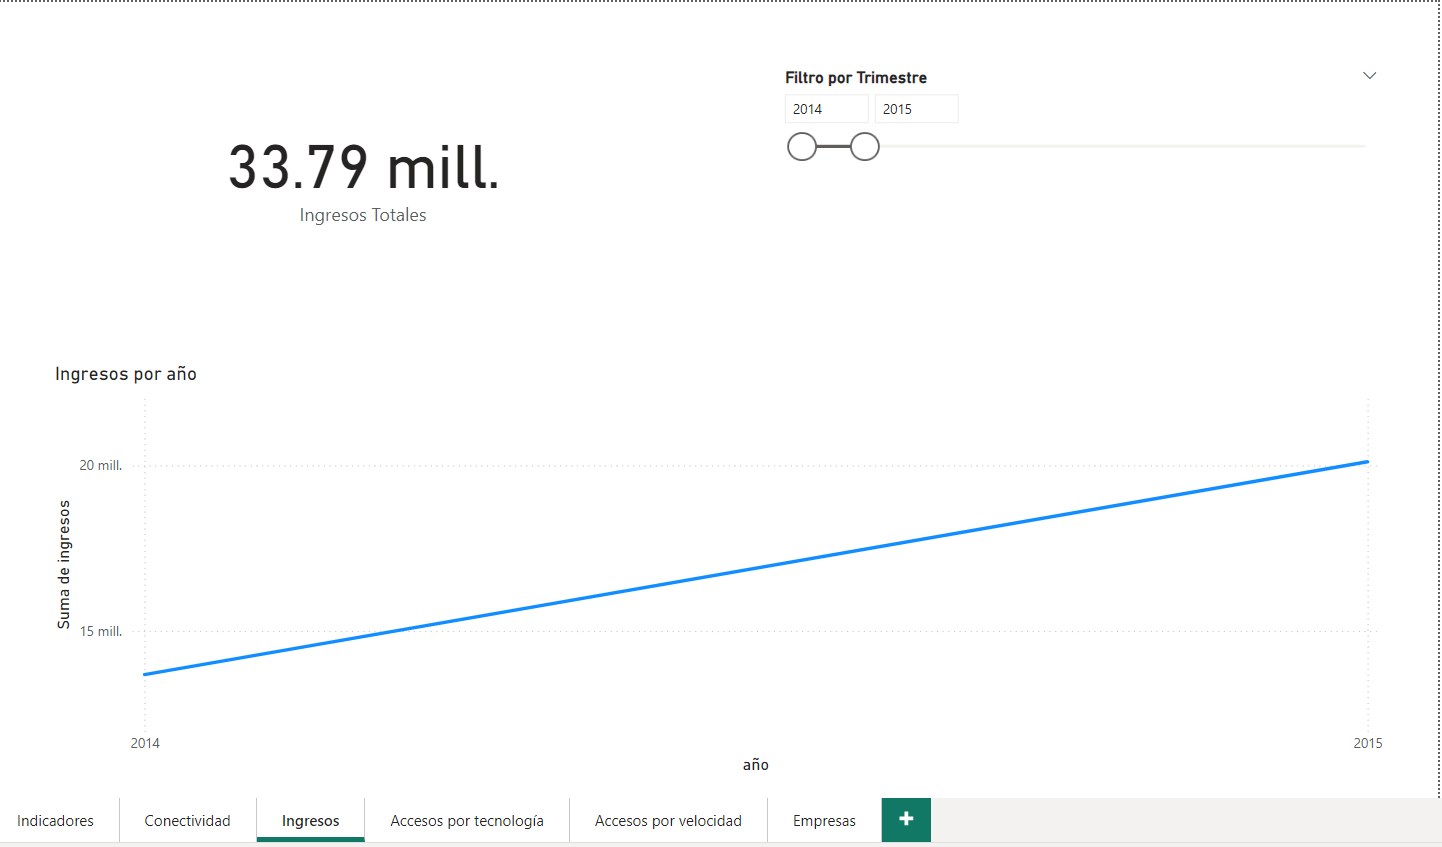

This screenshot's page, from the dashboard's own definition file:
{"tool":"powerbi","page":{"name":"Ingresos","canvas":[1280,720],"ordinal":2},"visuals":[{"type":"lineChart","title":"Ingresos por año","fields":{"Category":["telecomunicaciones_arg internet_ingresos.año"],"Y":["Sum(telecomunicaciones_arg internet_ingresos.ingresos)"]},"box":[45.7,320,1190,371.4],"z":0},{"type":"card","fields":{"Values":["Sum(telecomunicaciones_arg internet_ingresos.ingresos)"]},"box":[48.6,52.9,551.4,194.3],"z":1000},{"type":"slicer","fields":{"Values":["telecomunicaciones_arg internet_ingresos.año"]},"box":[687.1,52.9,551.4,194.3],"z":1001}]}

Visuals, with their boxes on the page's 1280x720 design canvas (x1, y1, x2, y2). These are canvas units, not pixel positions in the 1442x847 screenshot, which may show the page scaled, cropped or inside an application window:
"Ingresos por año" lineChart: 46, 320, 1236, 691
card - Sum(telecomunicaciones_arg internet_ingresos.ingresos): 49, 53, 600, 247
slicer - telecomunicaciones_arg internet_ingresos.año: 687, 53, 1238, 247
